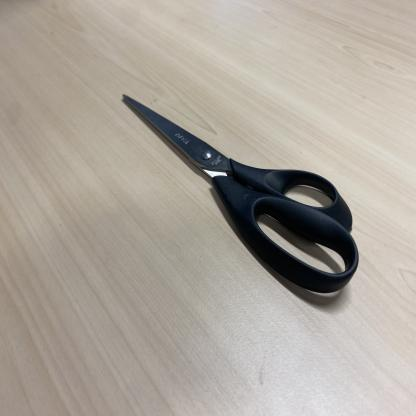scissors: (121, 94, 360, 293)
